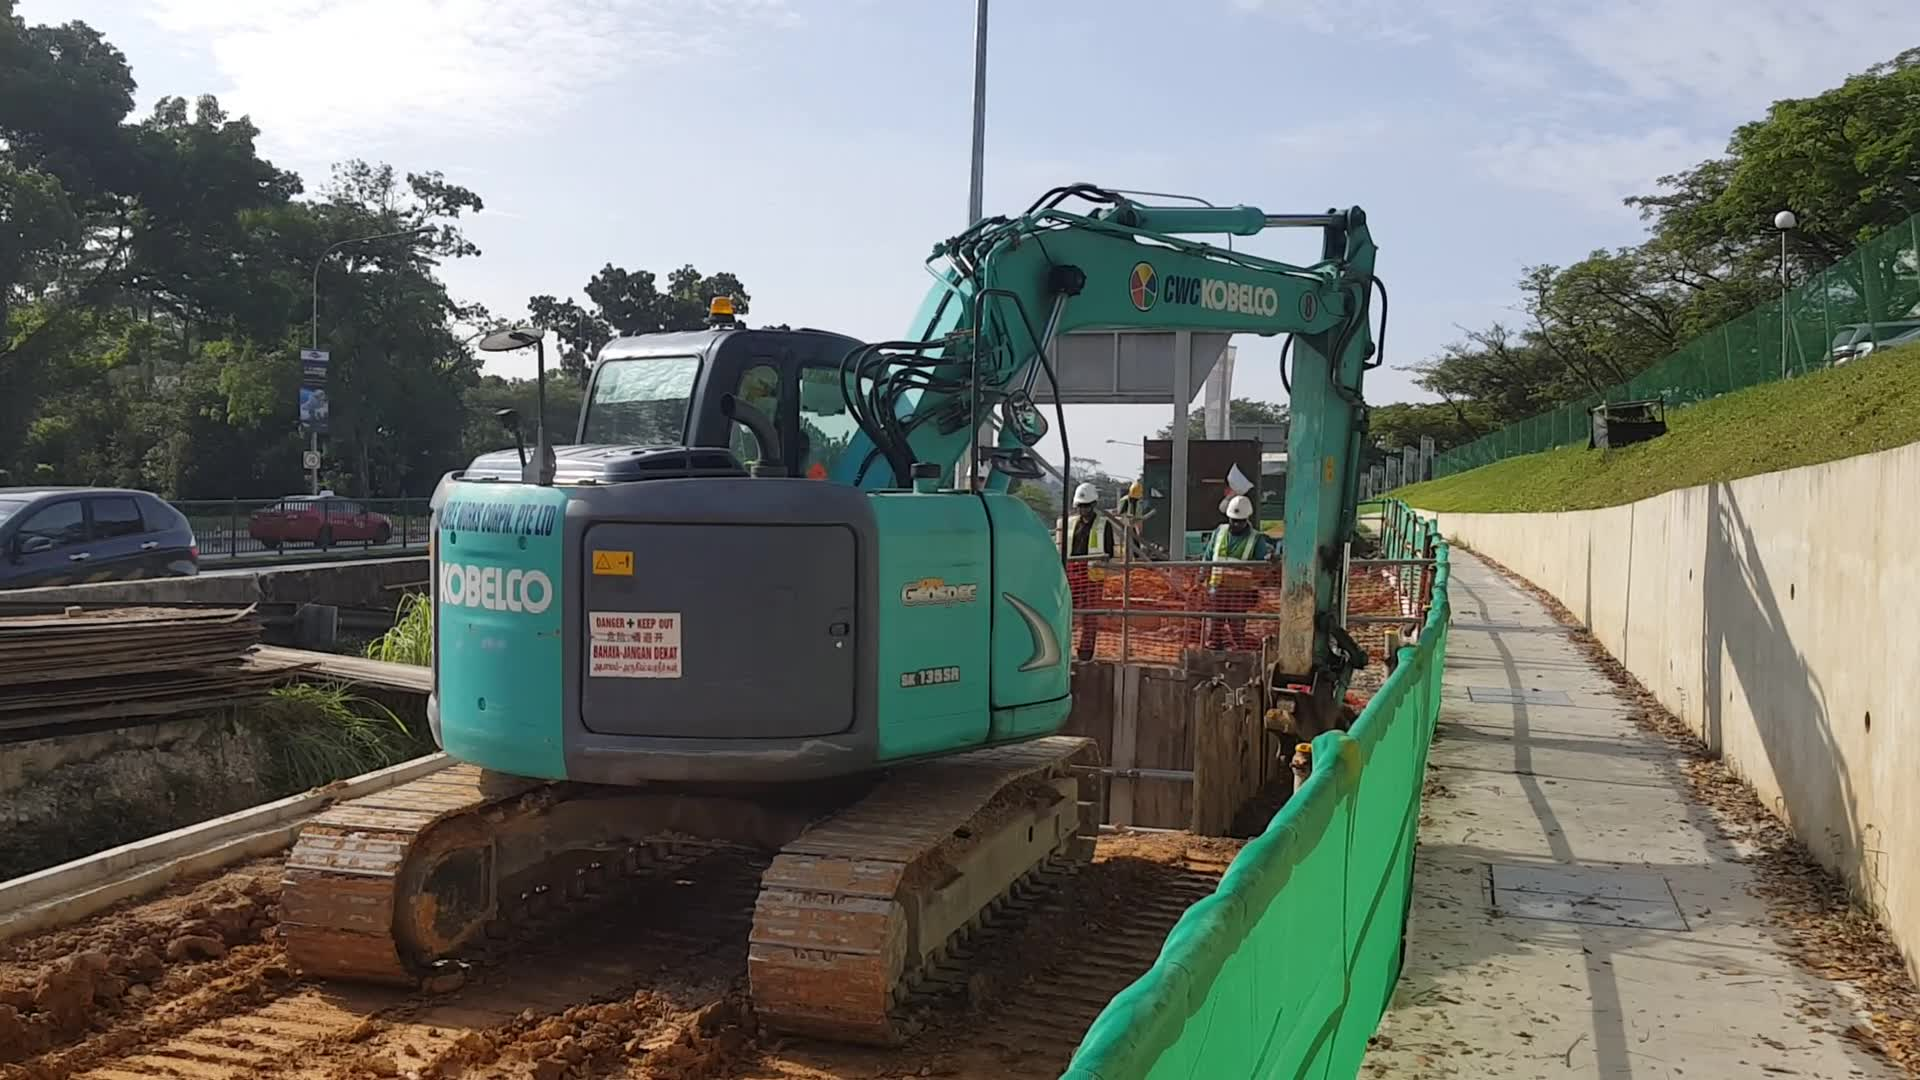cabin: (425, 297, 1091, 782)
forearm: (1280, 208, 1394, 667)
upperarm: (843, 214, 1349, 492)
wheelbase: (272, 723, 1104, 1050)
